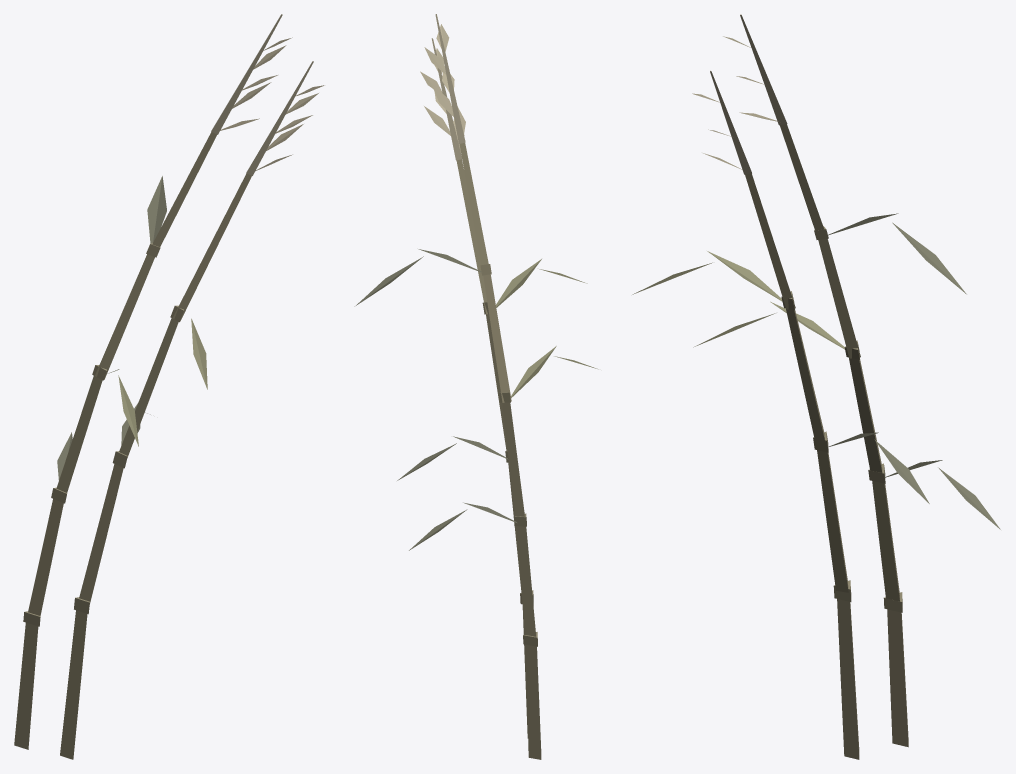
The model's file is shui.luwei@fruiting__winter.glb.
3 renders of one model, left to right at view 1: azimuth 30°, elevation 25°; view 2: azimuth 150°, elevation 25°; view 3: azimuth 270°, elevation 25°, orthographic. The views are drawn at different scales.
Visible parts, largest first — view 1: shui.luwei@fruiting__winter; view 2: shui.luwei@fruiting__winter; view 3: shui.luwei@fruiting__winter.
Boxes of the visible parts, box(x1,y1,x2,y2) form: shui.luwei@fruiting__winter: box(14, 14, 324, 759); shui.luwei@fruiting__winter: box(354, 14, 598, 759); shui.luwei@fruiting__winter: box(632, 14, 1000, 759).
Size of the model in its own units: 1 by 3.2 by 1.3.
